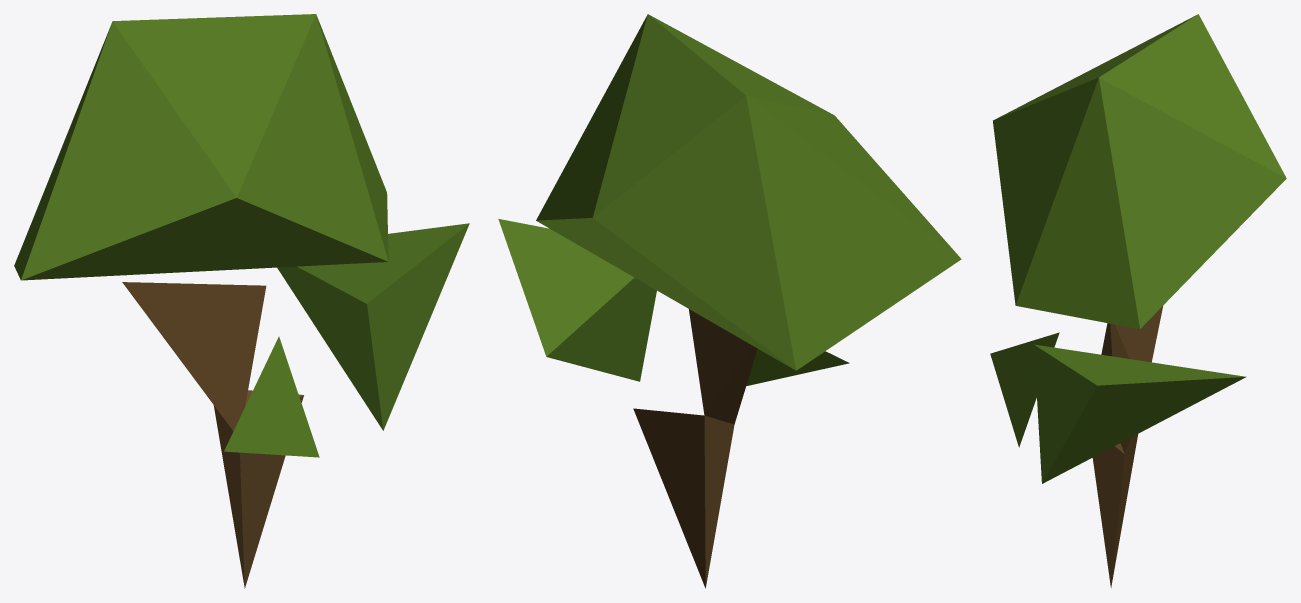
The model's file is temp-decid.tall-op0.05.gltf.
3 renders of one model, left to right at view 1: azimuth 30°, elevation 25°; view 2: azimuth 150°, elevation 25°; view 3: azimuth 270°, elevation 25°, orthographic. The views are drawn at different scales.
Parts seen in each view (by area): view 1: Tree1_1; view 2: Tree1_1; view 3: Tree1_1.
Part boxes in pixels (bbox=[...]): Tree1_1: bbox=[14, 14, 469, 588]; Tree1_1: bbox=[498, 14, 961, 588]; Tree1_1: bbox=[990, 14, 1286, 587].
Bounding box in the file's own units: 6.16 × 7.21 × 3.58.
1 material, 1 textured.
